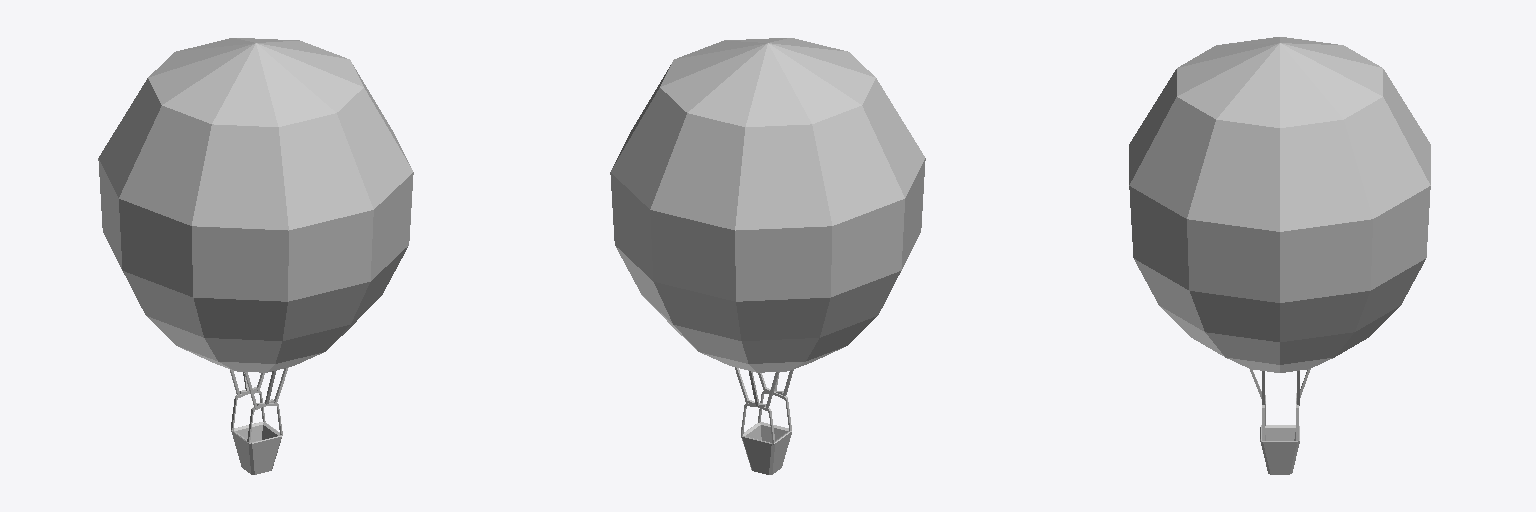
File: ballon.obj
3 views of the same model, side by side, from view 1: azimuth 30°, elevation 25°; view 2: azimuth 150°, elevation 25°; view 3: azimuth 270°, elevation 25° (orthographic).
Visible parts, largest first — view 1: pCube850; view 2: pCube850; view 3: pCube850.
Boxes of the visible parts, <box> form: pCube850: <box>98,38,413,474</box>; pCube850: <box>610,38,925,474</box>; pCube850: <box>1129,37,1430,474</box>.
Bounding box in the file's own units: 20.42 × 30.25 × 19.42.